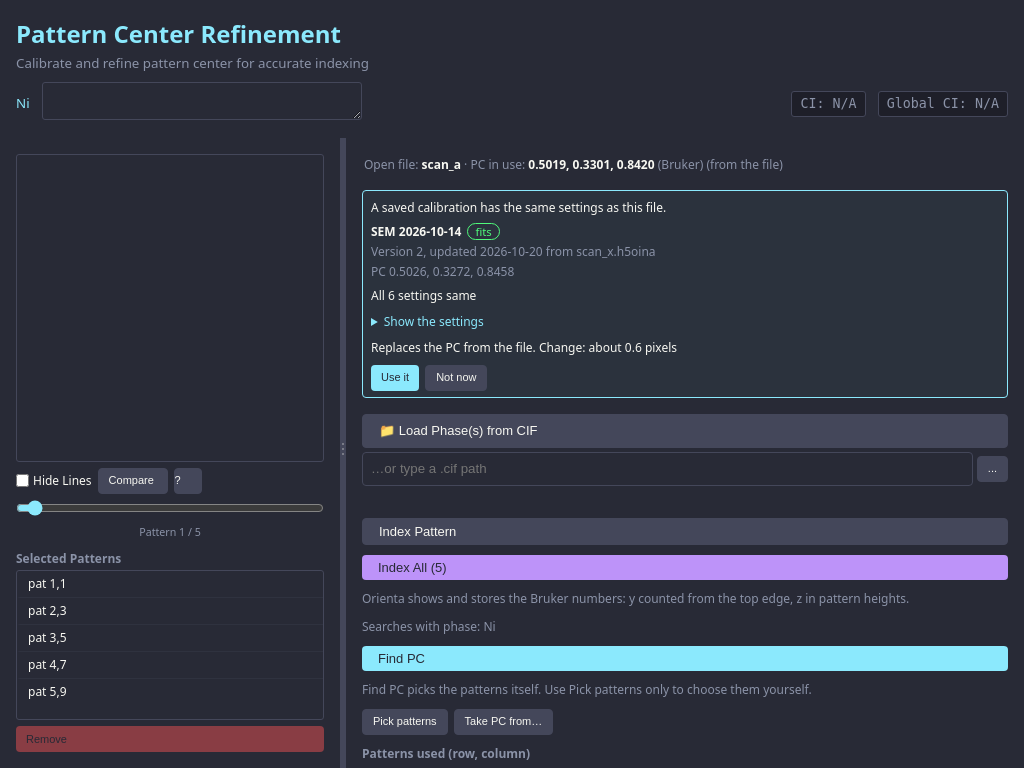
Save and Apply after a saved calibration was used › "Use it" gives the grant Save as calibration… and Apply to other files…, which opens the window for the version used
Click the button "Use it" at point(395, 378), box [371,365,419,391]
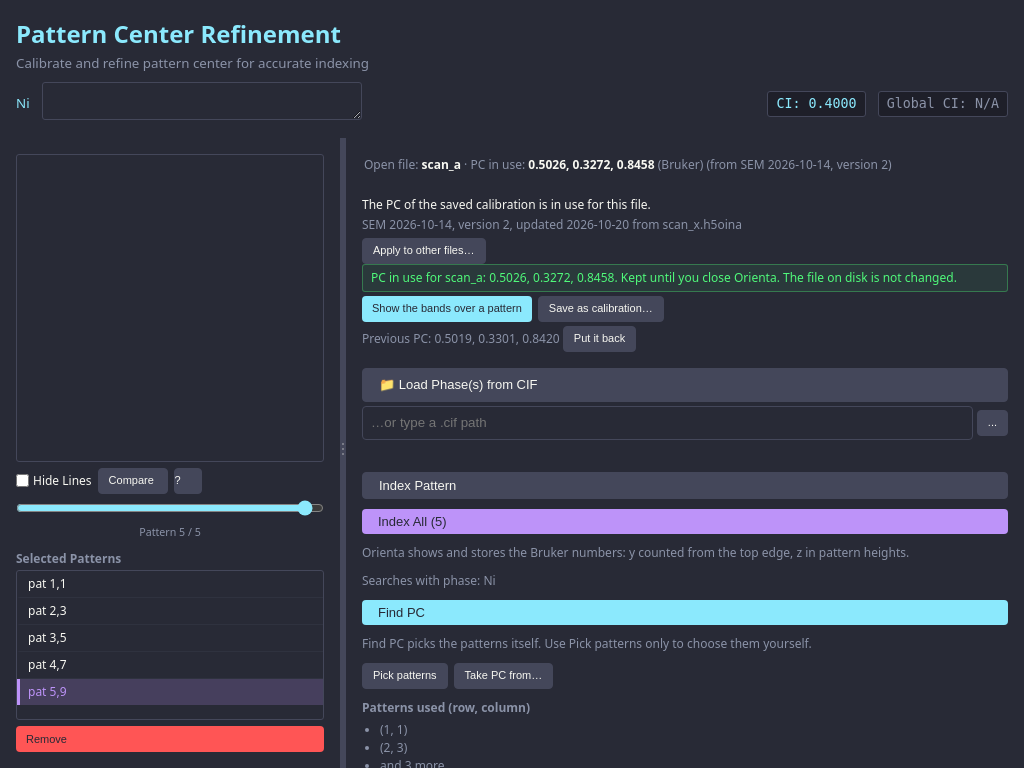
Click the button "Save as calibration…" at point(601, 309), box [538,296,664,322]
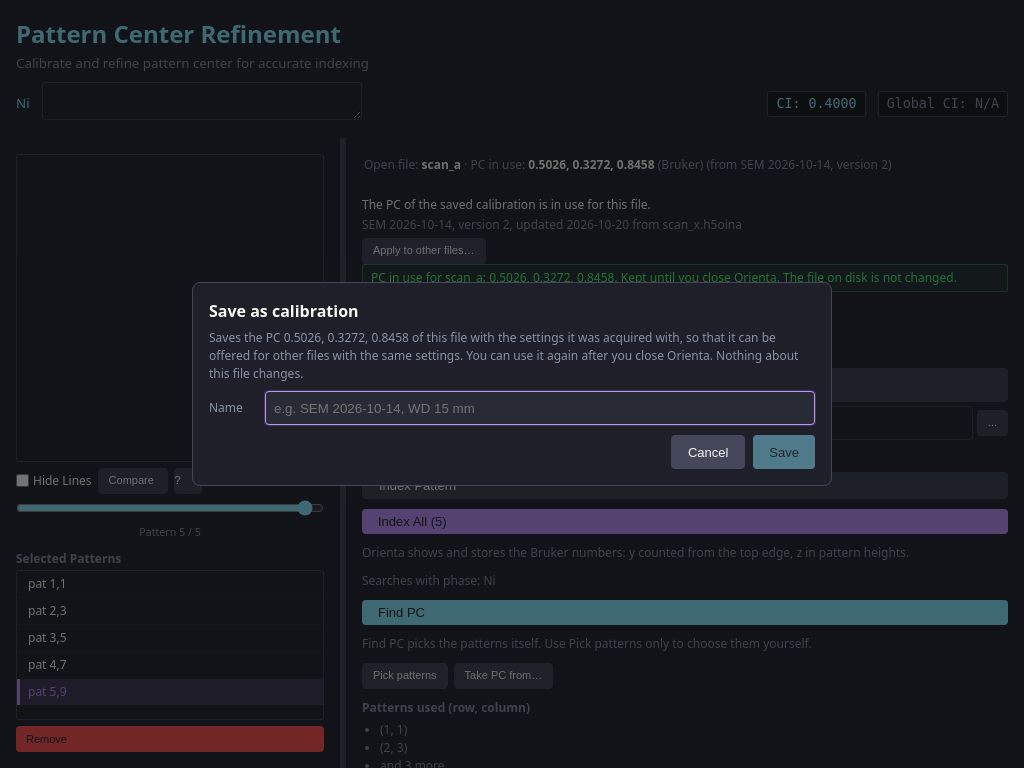
expect the dialog with test id "calibration-save-dialog" is shown: met
Click the button "Cancel" at point(708, 452), box [671,435,745,469]
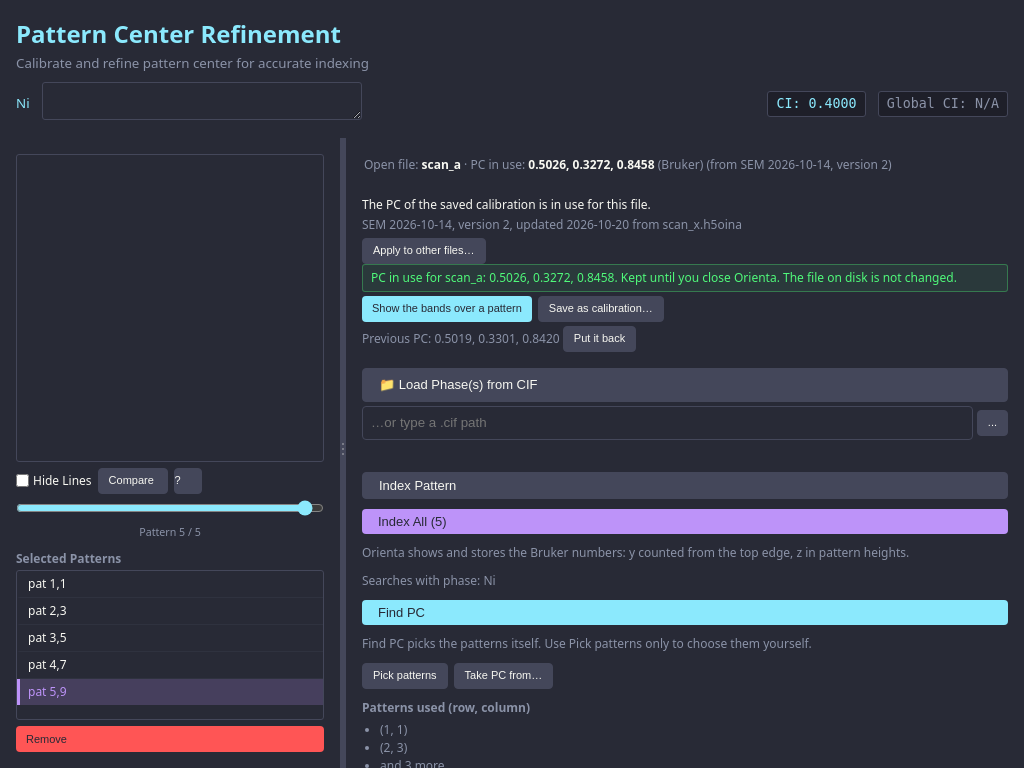
Click the button "Apply to other files…" at point(424, 251), box [362,238,486,264]
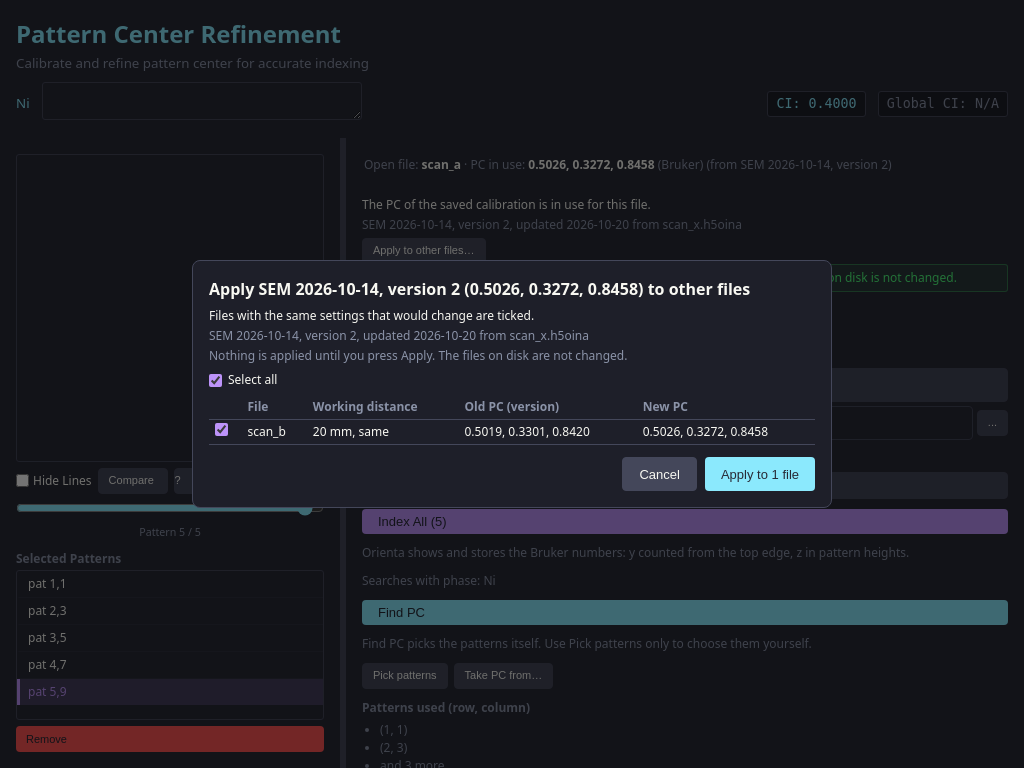
expect the heading reads "Apply SEM 2026-10-14, version 2 (0.5026, 0.3272, 0.8458) to other files": met, box [209,278,750,300]
expect the table with test id "apply-table" is shown: met, box [209,395,815,445]
